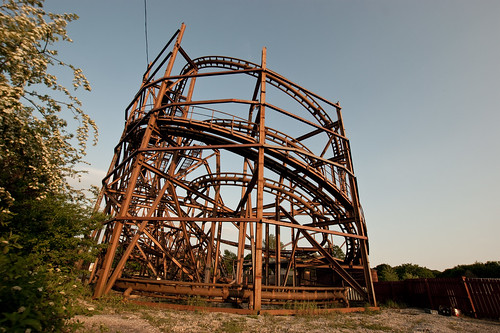sky: (65, 5, 500, 250)
vegetation: (1, 1, 94, 331)
